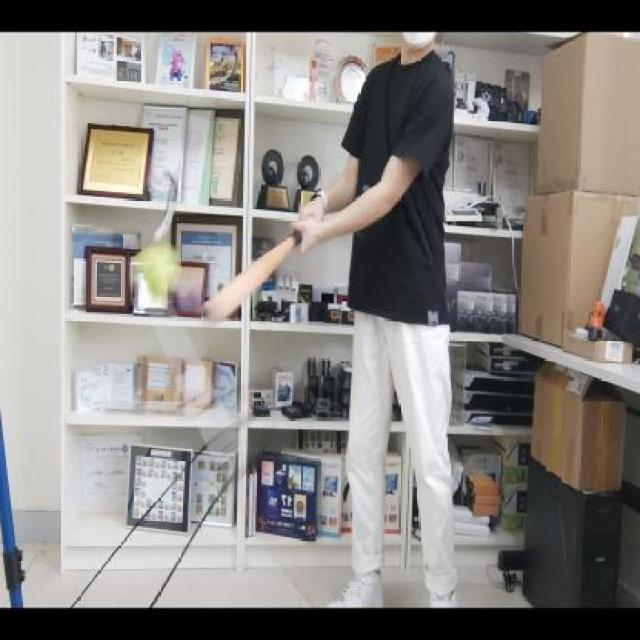baseball: (133, 240, 190, 306)
